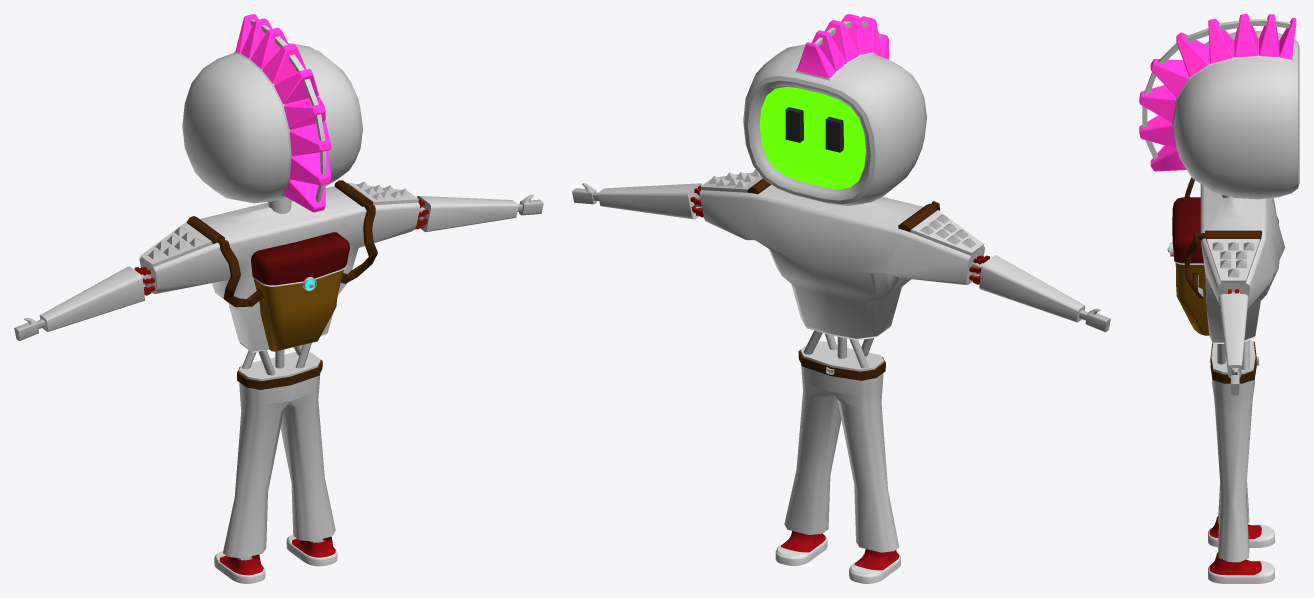
The model's file is Robot.fbx.
3 renders of one model, left to right at view 1: azimuth 30°, elevation 25°; view 2: azimuth 150°, elevation 25°; view 3: azimuth 270°, elevation 25°, orthographic. The views are drawn at different scales.
Parts seen in each view (by area): view 1: Body, Head, Right_Boot, Left_Boot; view 2: Body, Head, Right_Boot, Left_Boot; view 3: Head, Body, Left_Boot, Right_Boot.
Boxes of the visible parts, left/top/right/bottom form: Body: left=14, top=180, right=543, bottom=560; Head: left=182, top=14, right=362, bottom=212; Right_Boot: left=214, top=551, right=265, bottom=583; Left_Boot: left=286, top=534, right=337, bottom=566; Body: left=572, top=169, right=1110, bottom=552; Head: left=743, top=14, right=926, bottom=205; Right_Boot: left=849, top=549, right=900, bottom=583; Left_Boot: left=775, top=531, right=827, bottom=565; Head: left=1139, top=14, right=1299, bottom=199; Body: left=1167, top=177, right=1285, bottom=562; Left_Boot: left=1208, top=552, right=1274, bottom=583; Right_Boot: left=1208, top=516, right=1274, bottom=547.
Bounding box in the file's own units: 186 × 180 × 48.26.
